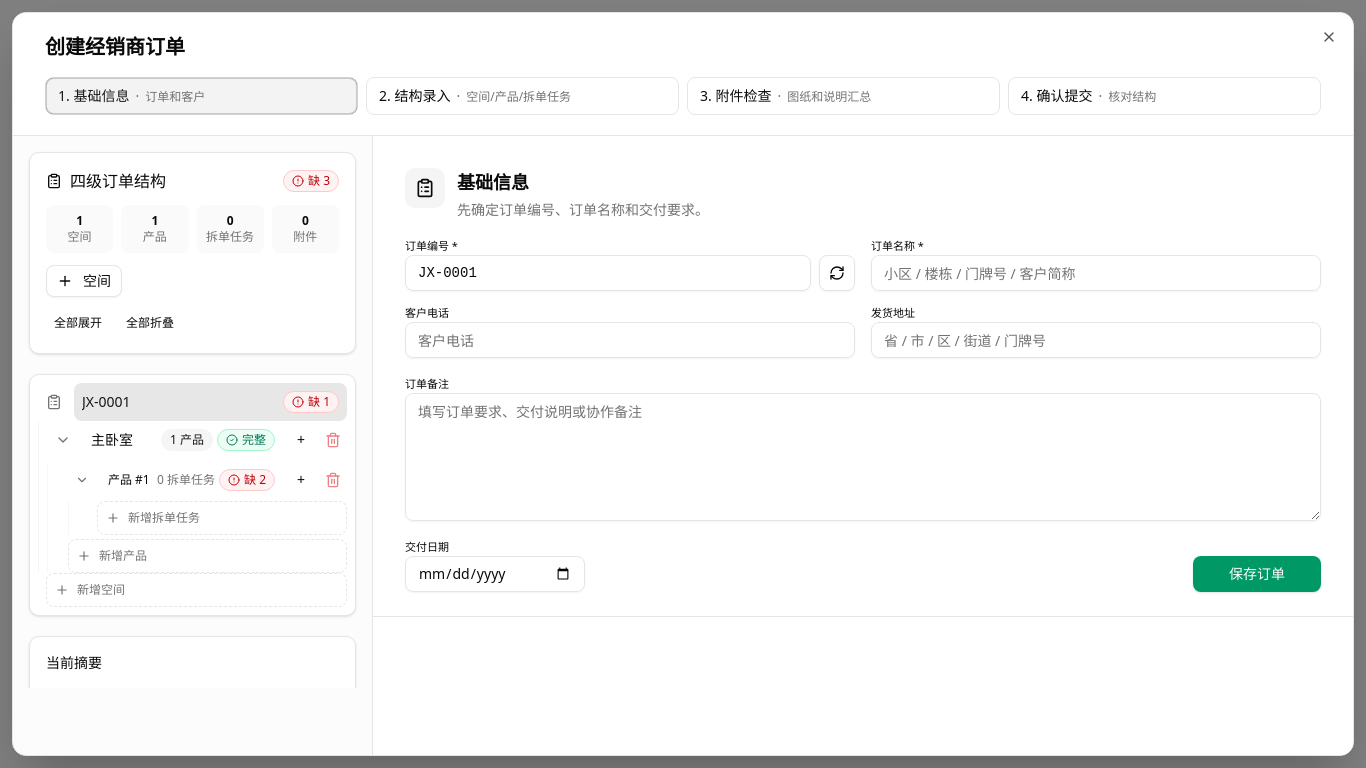
Test: CreateOrderDialog › keeps the default space selectable in the active structure editor
Check: the field showing "JX-0001" is shown, box [405,255,811,291]
What coordinates should you click on to do the following:
click the button "主卧室 1 产品 完整"
I would click on:
 (183, 440)
Its box is [83,421,283,459].
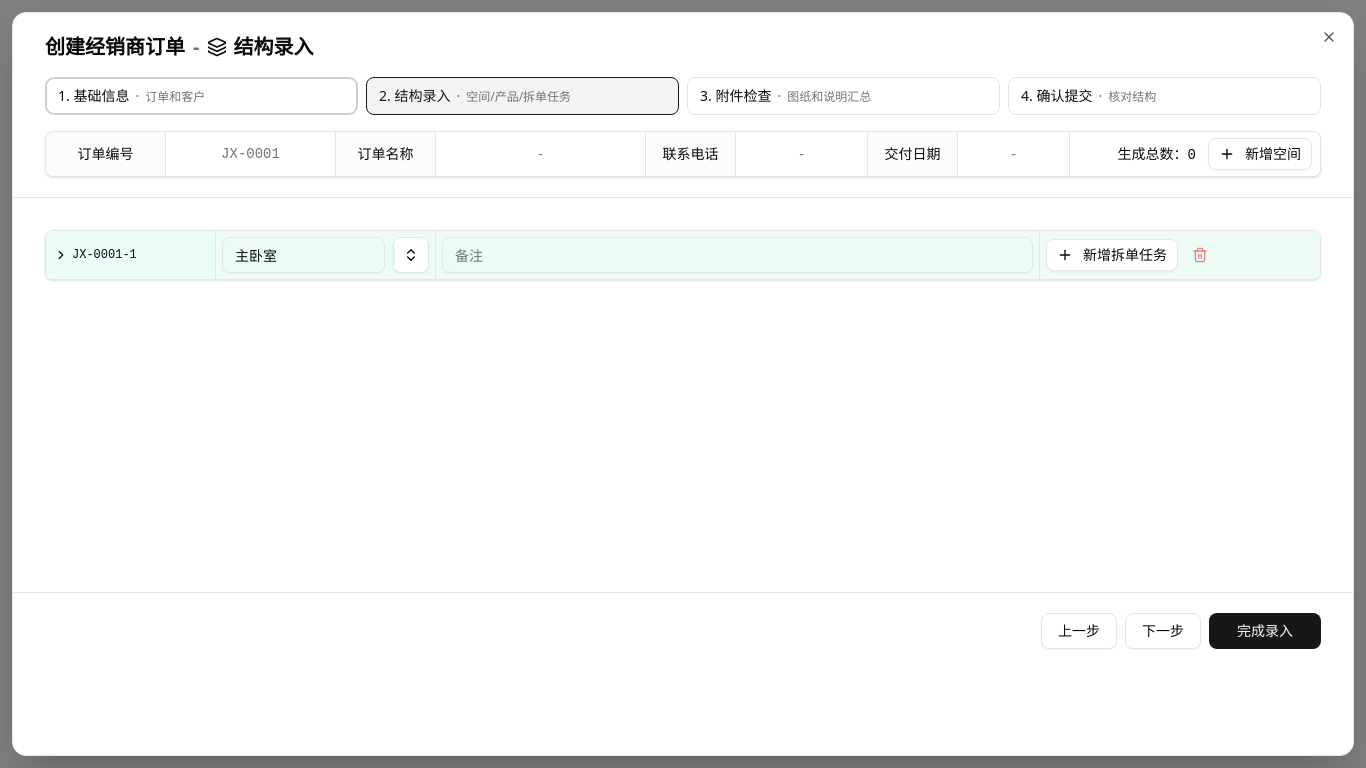
Check: the text "结构录入" is shown, box [208,33,314,61]
Check: the field showing "主卧室" is shown, box [222,237,385,273]
